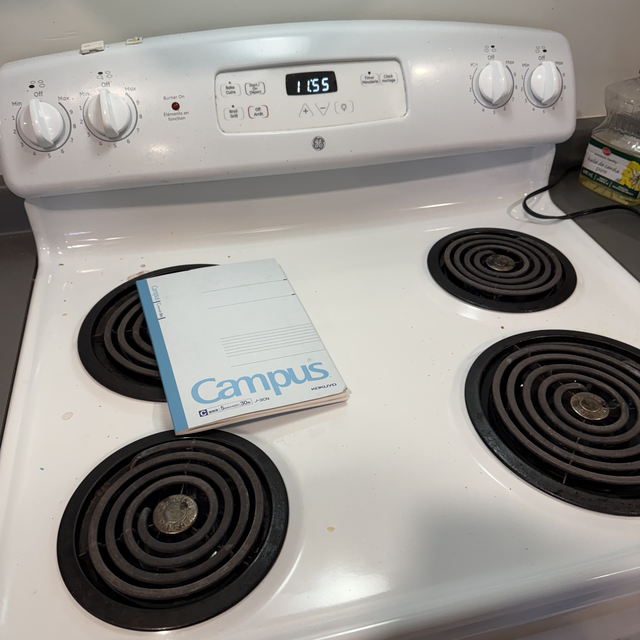Paper: (130, 261, 358, 426)
Stove: (0, 0, 640, 640)
